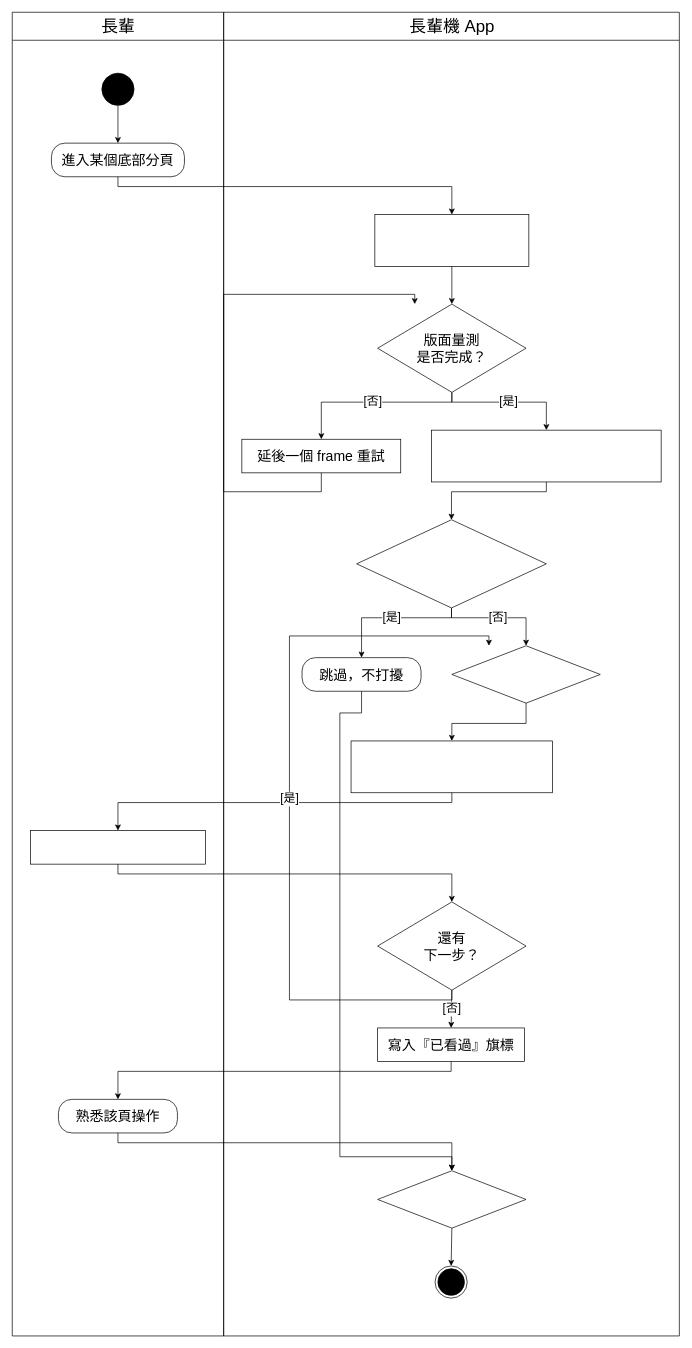
This 692x1348 diagram has some shape labels left out. Each missing label, with the centre of its shape:
"SharedPreferences 此頁教學已看過？" goes at point 451,563.
"showGeneralDialog 疊遮罩 挖空高光區並顯示提示" goes at point 451,766.
"SpotlightTutorial 顯示新手導 覽・首次到訪才跳出" goes at point 546,455.
"該分頁的 GlobalKey 提供高光量測目標" goes at point 451,240.
"點『知道了』前進下一步" goes at point 117,847.
